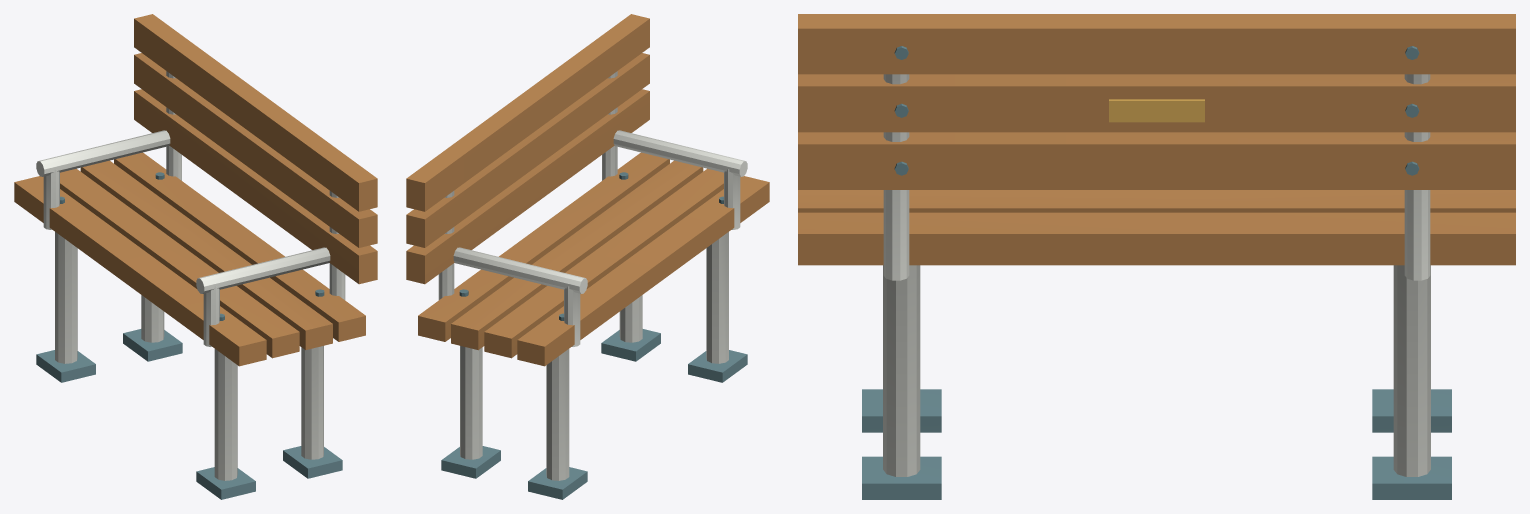
File: bench.glb
The picture shows the model from 3 angles, left to right: view 1: azimuth 30°, elevation 25°; view 2: azimuth 150°, elevation 25°; view 3: azimuth 270°, elevation 25°; orthographic projection. The views are drawn at different scales.
Parts seen in each view (by area): view 1: seat slat, bench leg, anchored bench foot; view 2: seat slat, bench leg, anchored bench foot; view 3: seat slat, bench leg, anchored bench foot, maker badge.
Part boxes in pixels (left/top/right/bottom): seat slat: left=14, top=14, right=377, bottom=366; bench leg: left=36, top=71, right=345, bottom=480; anchored bench foot: left=36, top=172, right=342, bottom=499; seat slat: left=406, top=14, right=769, bottom=366; bench leg: left=438, top=71, right=747, bottom=480; anchored bench foot: left=441, top=172, right=747, bottom=499; seat slat: left=798, top=14, right=1515, bottom=265; bench leg: left=883, top=74, right=1430, bottom=476; anchored bench foot: left=862, top=46, right=1451, bottom=499; maker badge: left=1109, top=99, right=1204, bottom=122.
Size of the model in its own units: 0.513 by 1 by 1.35.
